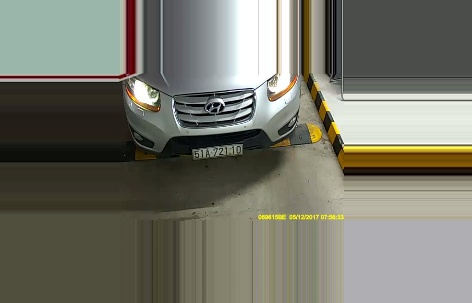plate: (187, 142, 243, 160)
